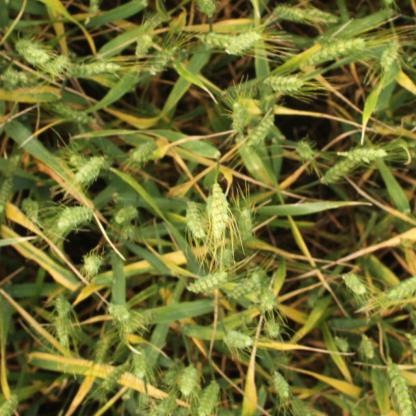whd: (320, 142, 370, 186), (304, 38, 360, 68), (387, 364, 412, 416), (208, 186, 231, 236), (203, 34, 254, 52), (56, 204, 92, 229), (247, 115, 274, 148), (16, 38, 50, 64), (53, 103, 95, 124), (101, 365, 129, 393), (78, 155, 104, 185), (300, 6, 335, 28), (185, 200, 205, 238), (72, 62, 121, 76), (151, 46, 176, 72), (390, 278, 416, 303), (346, 148, 386, 164), (128, 311, 156, 333), (191, 273, 225, 291), (201, 380, 219, 414), (226, 35, 258, 54), (270, 76, 303, 94), (230, 276, 258, 297), (380, 46, 400, 73), (133, 141, 158, 162), (275, 6, 304, 24), (182, 365, 198, 395), (236, 206, 250, 240), (48, 53, 69, 75), (52, 295, 73, 317), (114, 205, 138, 223), (223, 332, 250, 348), (131, 352, 148, 377), (230, 104, 245, 132), (94, 338, 110, 364), (194, 0, 221, 14), (83, 256, 101, 277), (56, 319, 73, 341), (3, 179, 13, 216), (2, 70, 27, 84), (344, 272, 362, 291), (2, 396, 20, 414), (216, 247, 233, 266), (136, 33, 150, 56), (167, 358, 180, 382), (24, 199, 38, 221), (110, 302, 126, 320), (156, 397, 174, 413), (68, 152, 88, 166), (298, 141, 312, 161), (274, 374, 286, 397), (260, 290, 275, 308), (262, 92, 276, 111), (362, 336, 374, 356), (335, 336, 349, 348), (118, 228, 136, 237), (267, 322, 277, 336), (410, 334, 416, 349), (382, 0, 394, 6)
